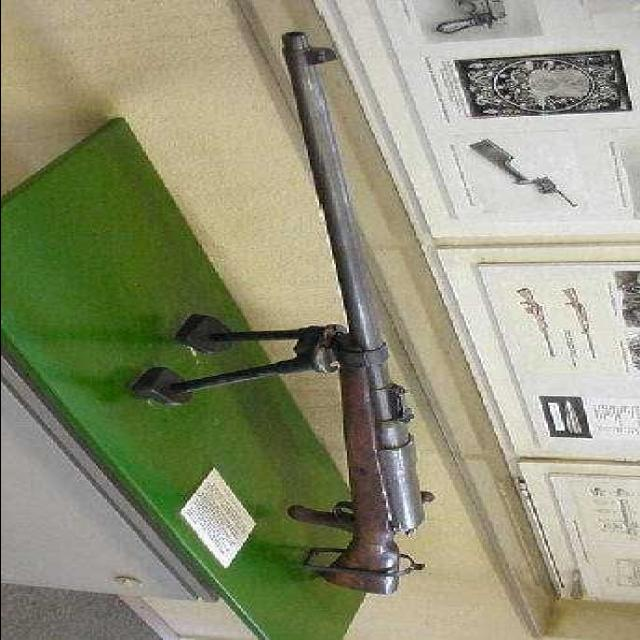heavyweapon: (204, 22, 509, 607)
